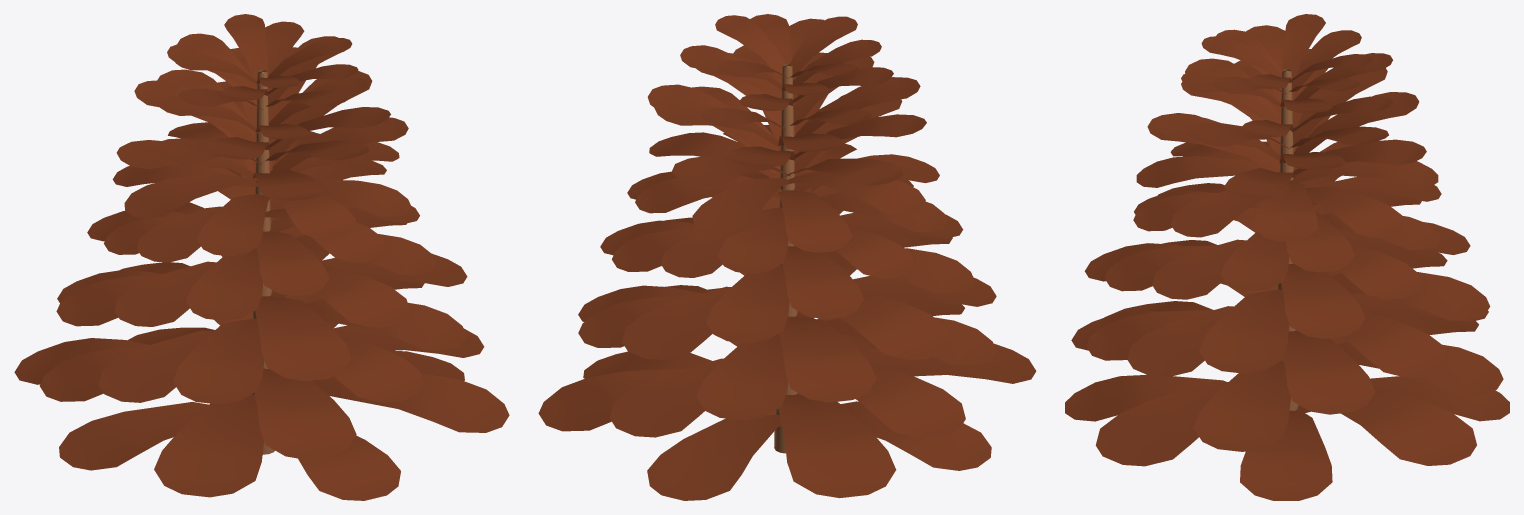
File: Pinecone.fbx
The picture shows the model from 3 angles, left to right: view 1: azimuth 30°, elevation 25°; view 2: azimuth 150°, elevation 25°; view 3: azimuth 270°, elevation 25°; orthographic projection. The views are drawn at different scales.
Visible parts, largest first — view 1: Plane.004, Cylinder; view 2: Plane.004, Cylinder; view 3: Plane.004, Cylinder.
Part boxes in pixels (left/top/right/bottom): Plane.004: left=14, top=14, right=509, bottom=500; Cylinder: left=251, top=70, right=274, bottom=454; Plane.004: left=538, top=14, right=1036, bottom=500; Cylinder: left=774, top=64, right=797, bottom=453; Plane.004: left=1065, top=14, right=1509, bottom=500; Cylinder: left=1277, top=69, right=1298, bottom=410.
Size of the model in its own units: 268 by 262 by 270.
